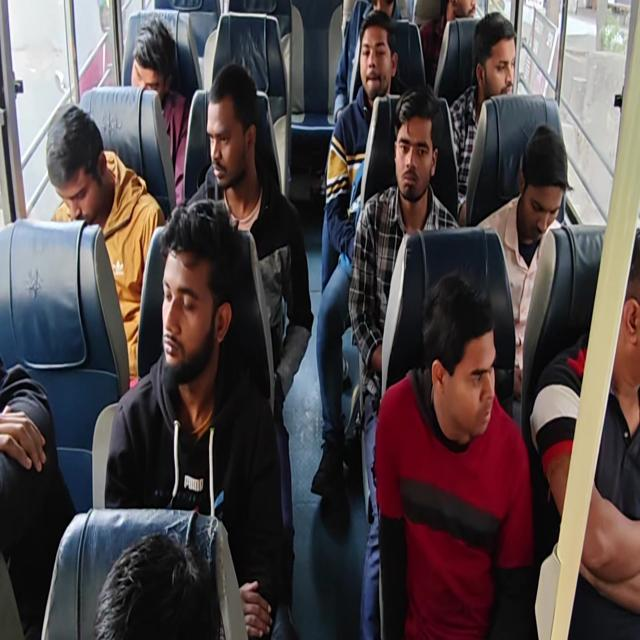person: (416, 262, 518, 472), (160, 204, 253, 412), (89, 513, 221, 640), (45, 99, 120, 234), (196, 62, 266, 202), (520, 121, 579, 246), (465, 13, 530, 116), (391, 83, 447, 200), (357, 11, 408, 108), (438, 1, 503, 74), (132, 13, 178, 98), (363, 0, 402, 28)
